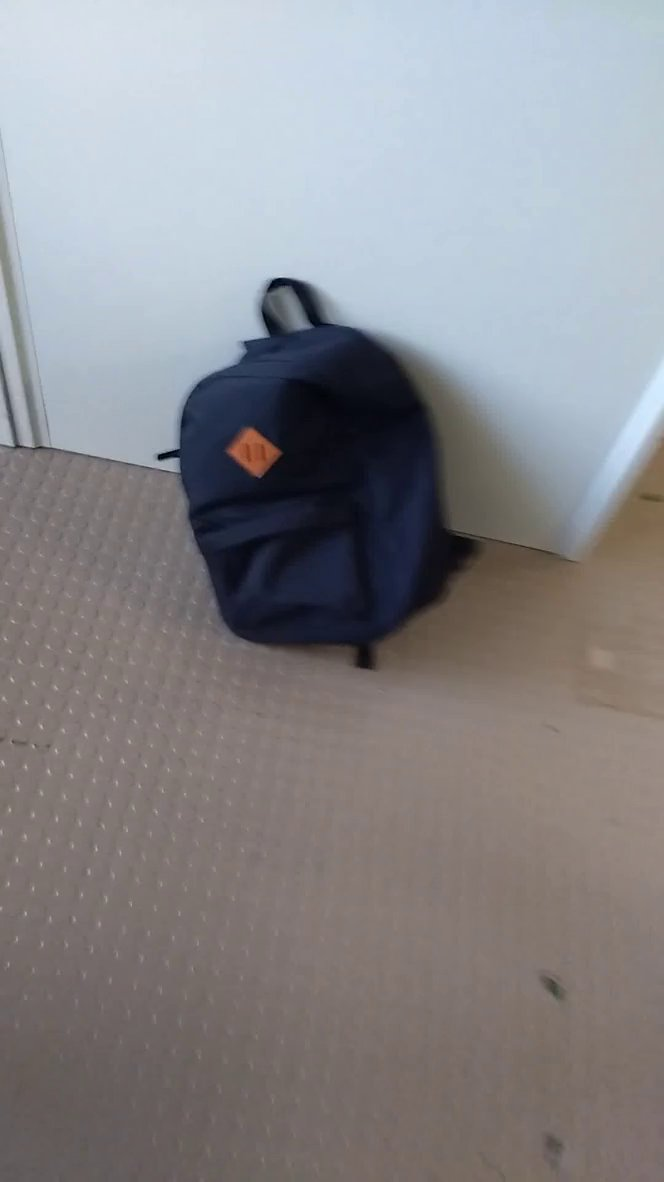bag: (152, 262, 508, 681)
